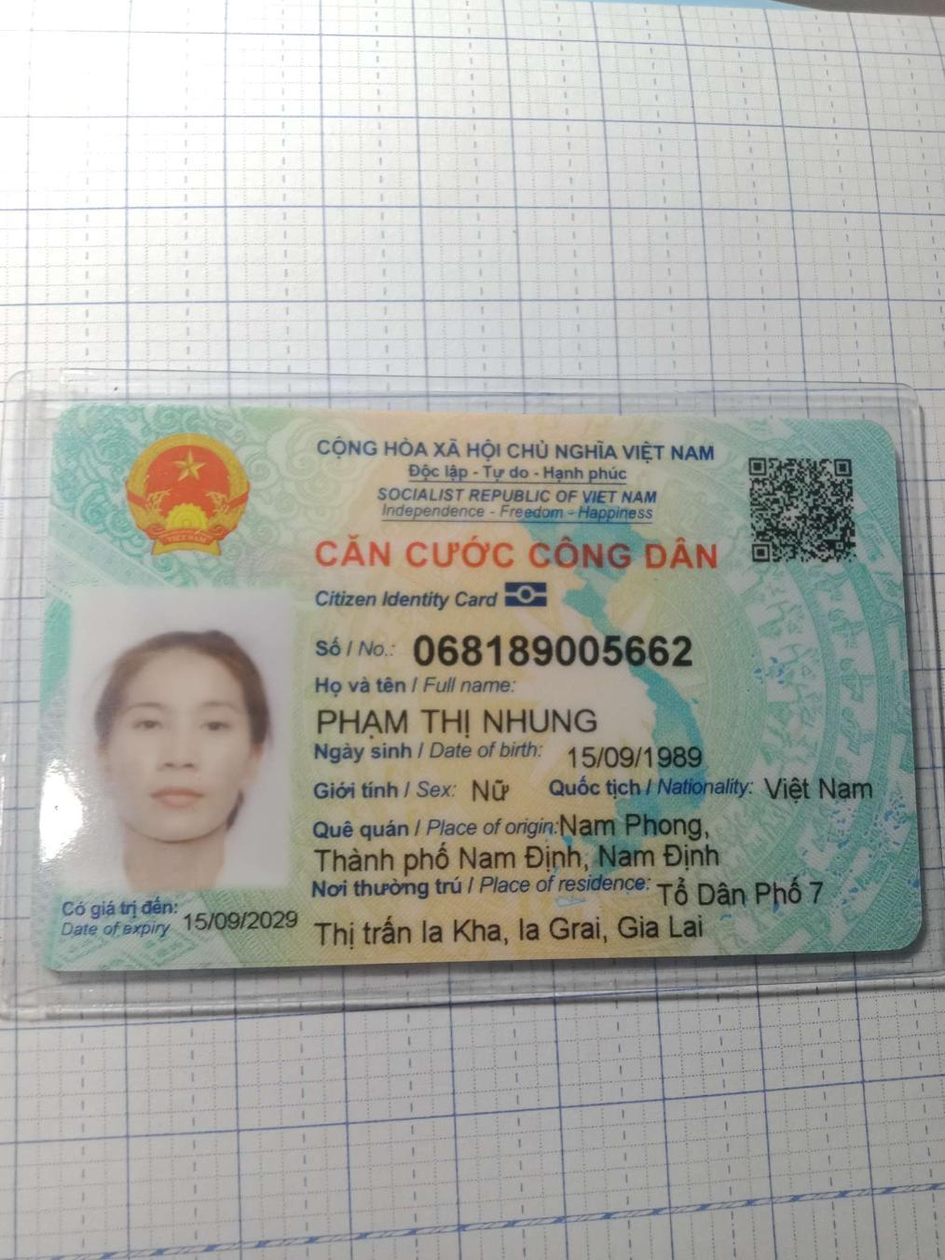ID: (404, 628, 703, 674)
birth: (563, 741, 709, 773)
name: (310, 701, 604, 741)
place: (309, 839, 739, 877), (555, 807, 725, 843)
residence: (312, 907, 721, 955), (651, 870, 830, 911)
